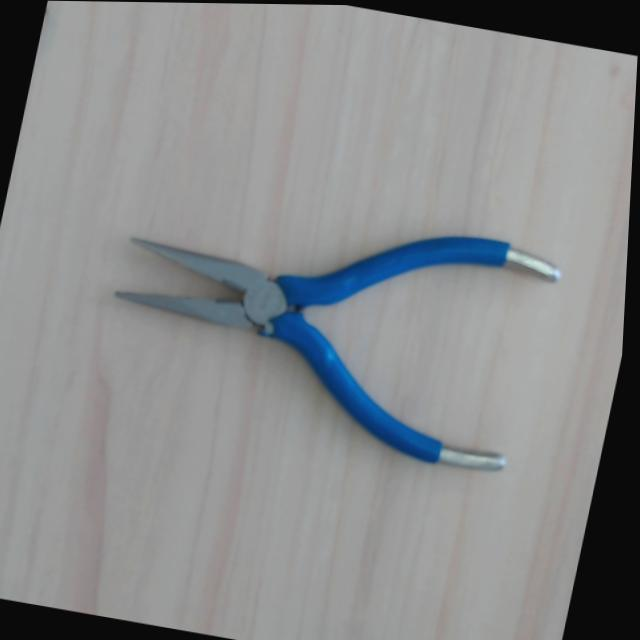Tang-Jepit-Biru: (94, 141, 564, 483)
